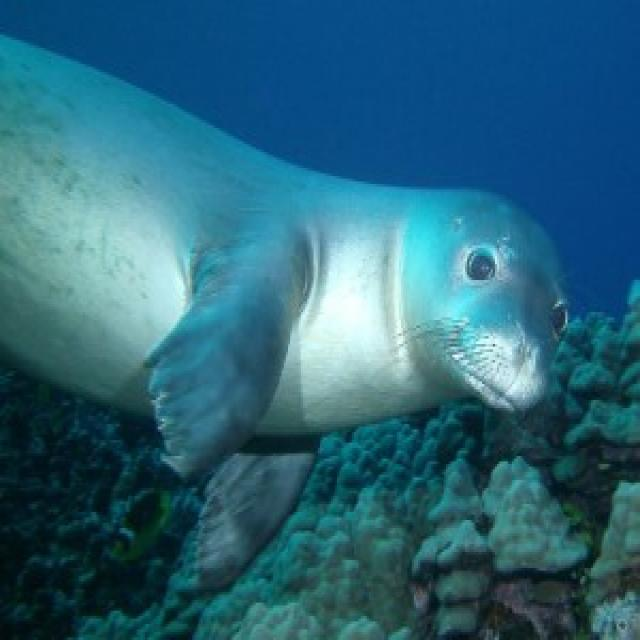Seal: (0, 88, 592, 455)
